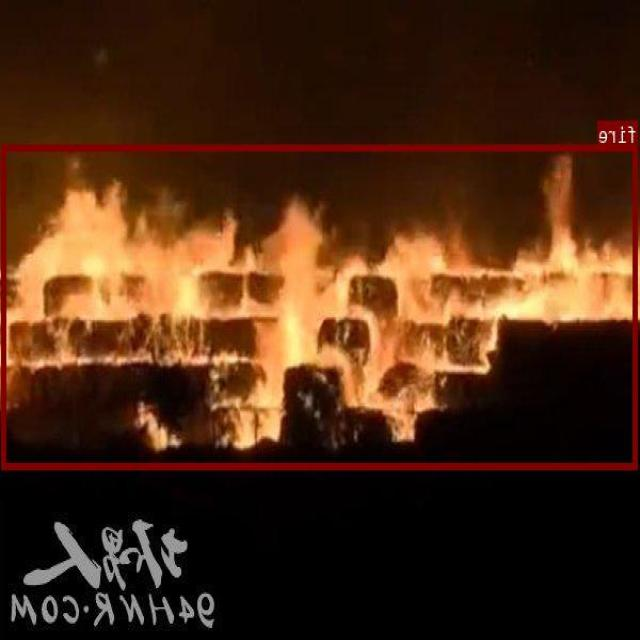fire: (3, 143, 639, 468)
